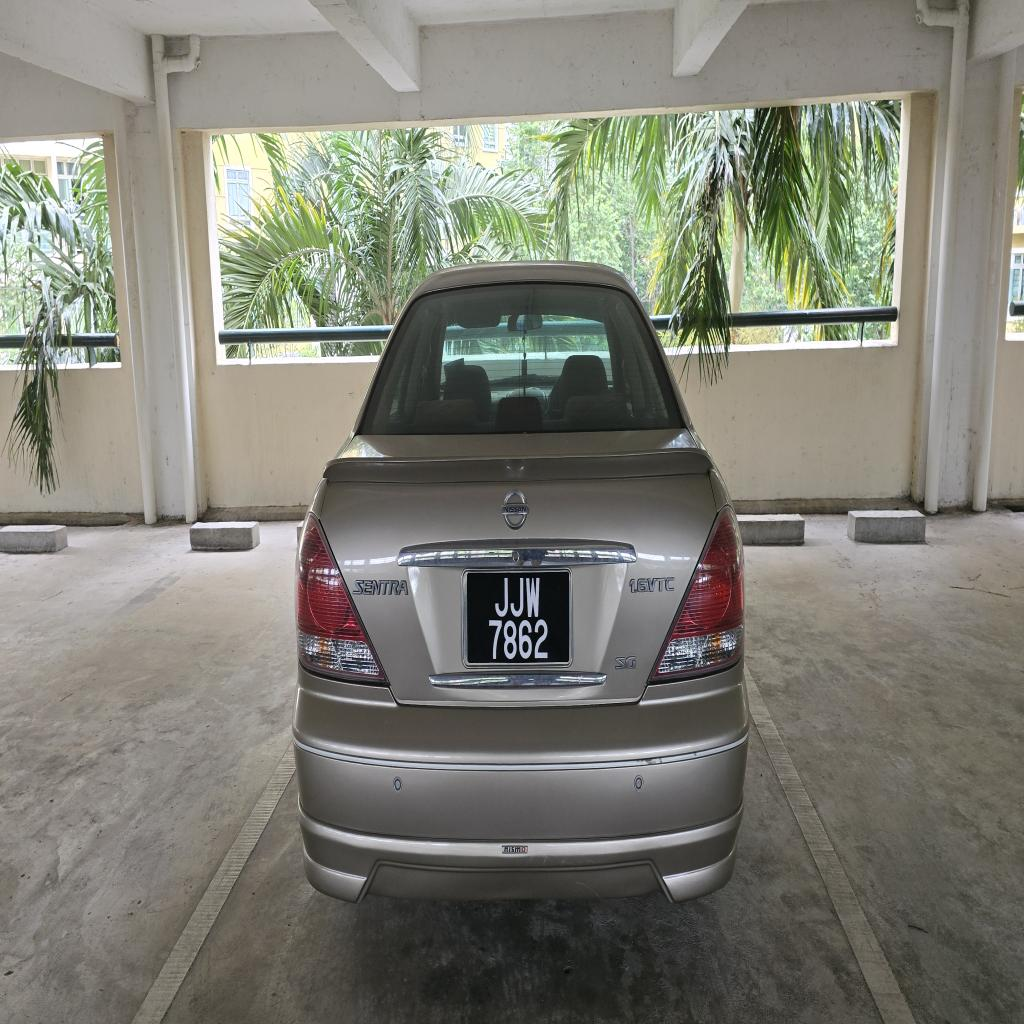car: (294, 263, 748, 900)
car plate: (464, 571, 571, 667)
